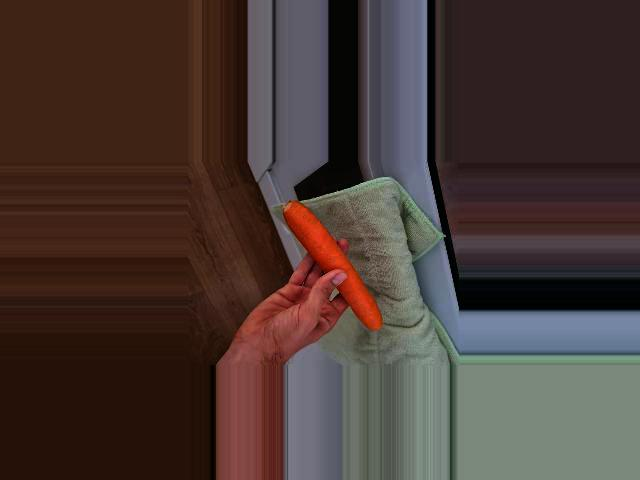carrot: (279, 200, 384, 331)
